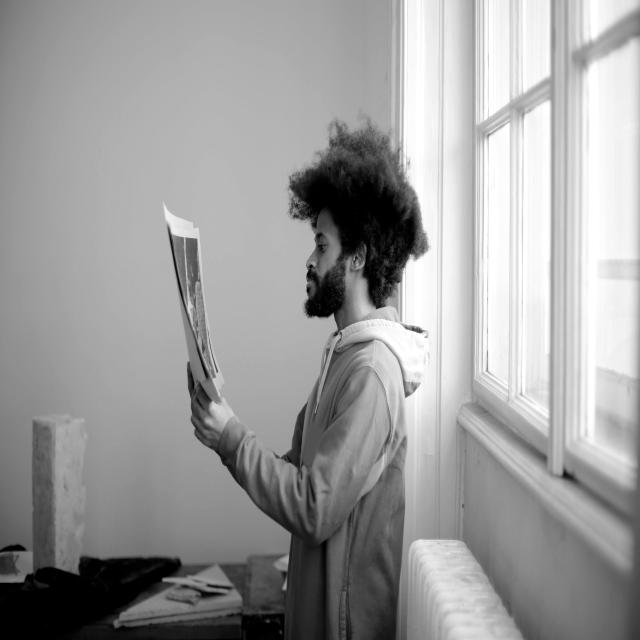No-Vest: (286, 309, 412, 640)
